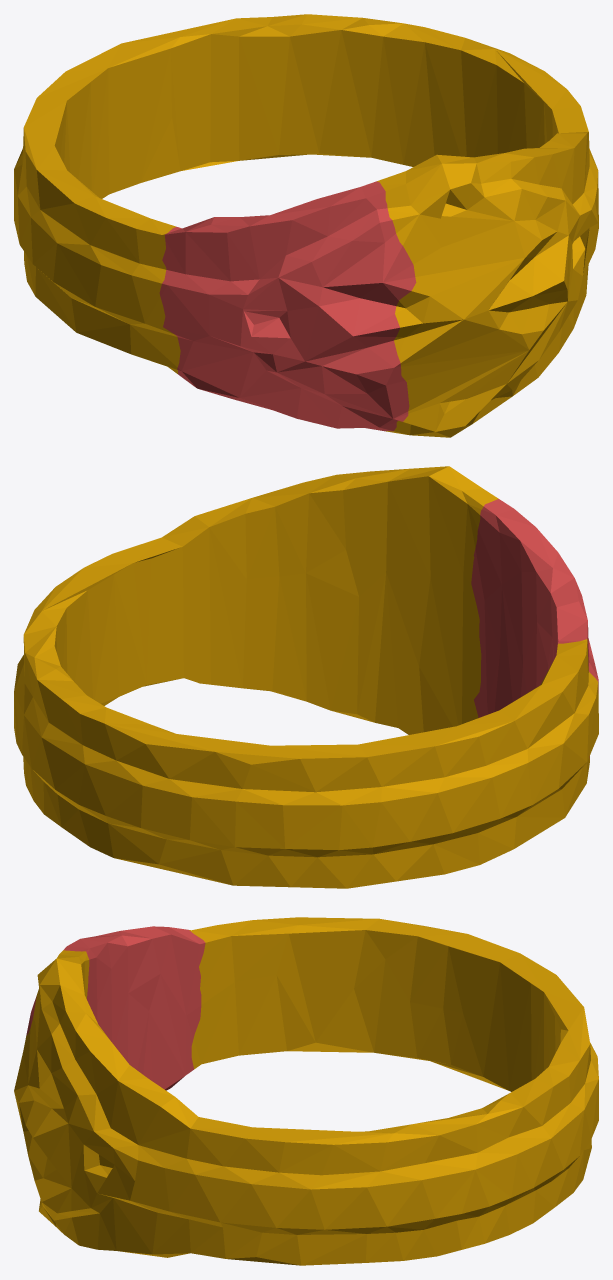
File: fractured_19_2pcs.glb
3 renders of one model, top to bottom at view 1: azimuth 30°, elevation 25°; view 2: azimuth 150°, elevation 25°; view 3: azimuth 270°, elevation 25°, orthographic. The views are drawn at different scales.
Visible parts, largest first — view 1: piece_0.obj, piece_1.obj; view 2: piece_0.obj, piece_1.obj; view 3: piece_0.obj, piece_1.obj.
Boxes of the visible parts, x1,y1,x2,y2 form: piece_0.obj: (14,14,598,437); piece_1.obj: (159,181,416,431); piece_0.obj: (14,466,598,888); piece_1.obj: (471,499,598,758); piece_0.obj: (14,917,598,1265); piece_1.obj: (26,926,205,1090).
Size of the model in its own units: 0.9505 by 0.4981 by 1.
